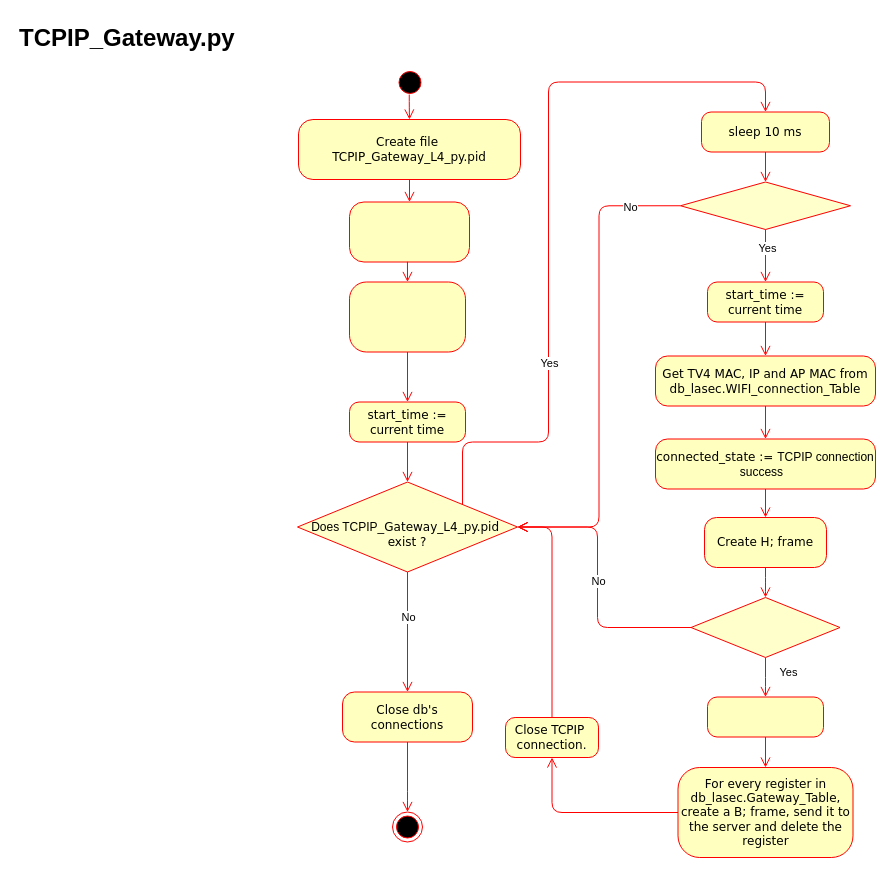
This 893x875 diagram has some shape labels left out. The box of each missing label's shape, as (x1, y1, x2, y2) in pixels:
connected_state := True: (690, 596, 840, 658)
Create handler for db_lasec: (348, 201, 470, 262)
Create TCPIP module using host_ip and port.: (348, 281, 466, 352)
current time - start_time > 2 s: (680, 181, 850, 230)
Send H; frame: (706, 696, 824, 737)
